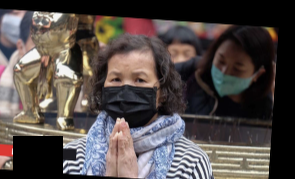with_mask: (98, 68, 160, 128), (209, 49, 253, 99)
